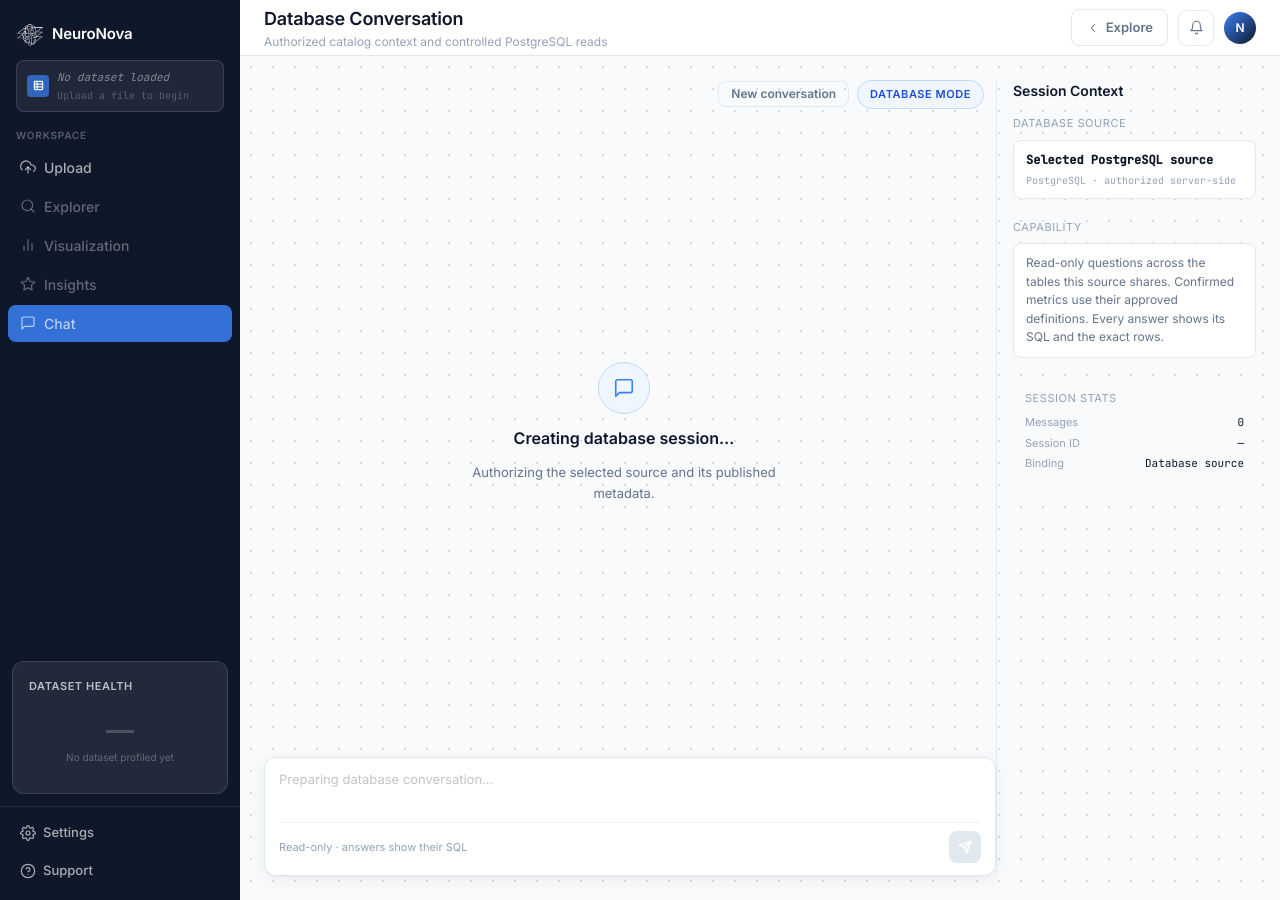
Test case: switches an eligible returned result between its exact table and a local chart without another request
Type "Show revenue by region" into the text box named "Database question" at [630, 790], box x1=279 y1=770 x2=981 y2=809
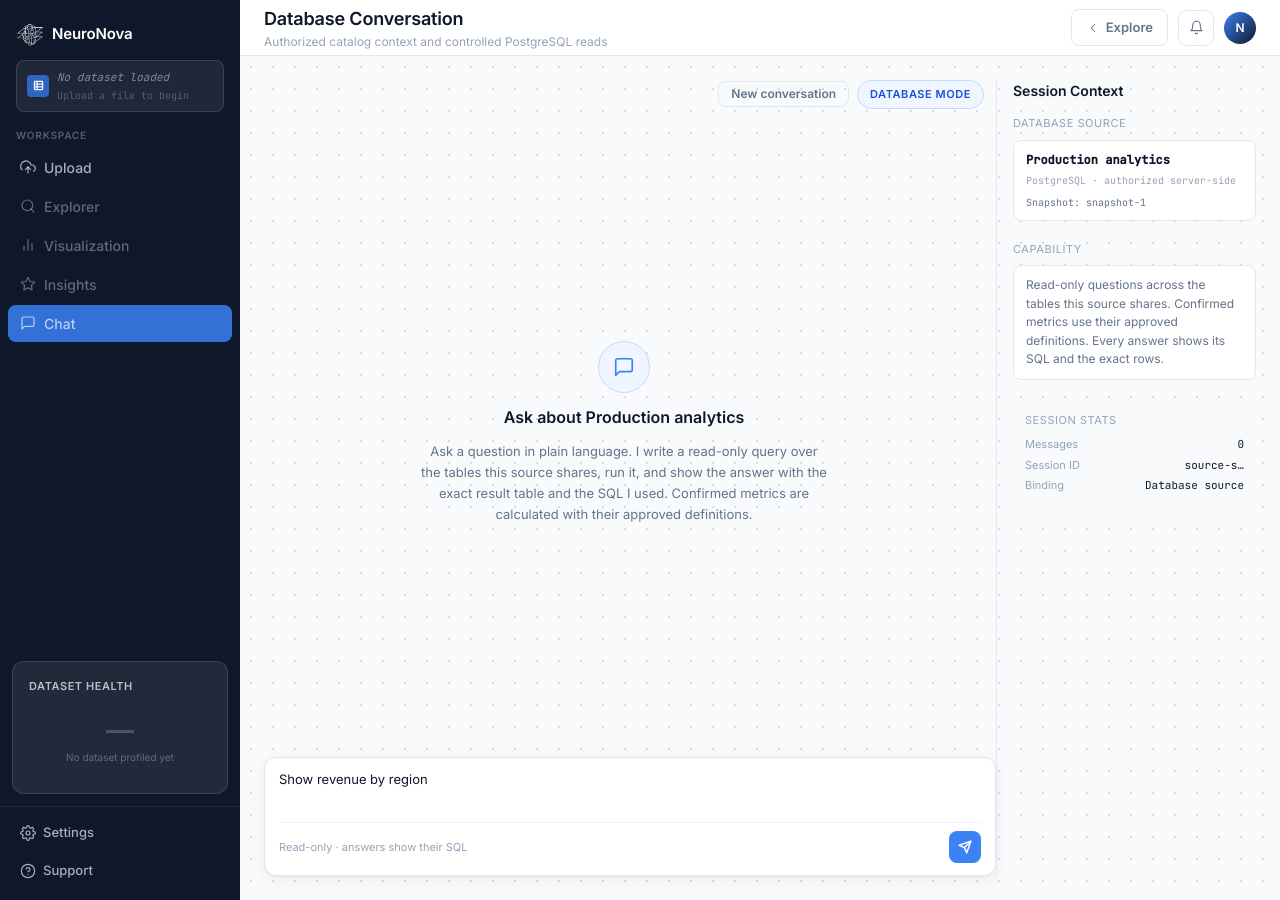
Click the button named "Send database question" at [965, 847], box x1=949 y1=831 x2=981 y2=863
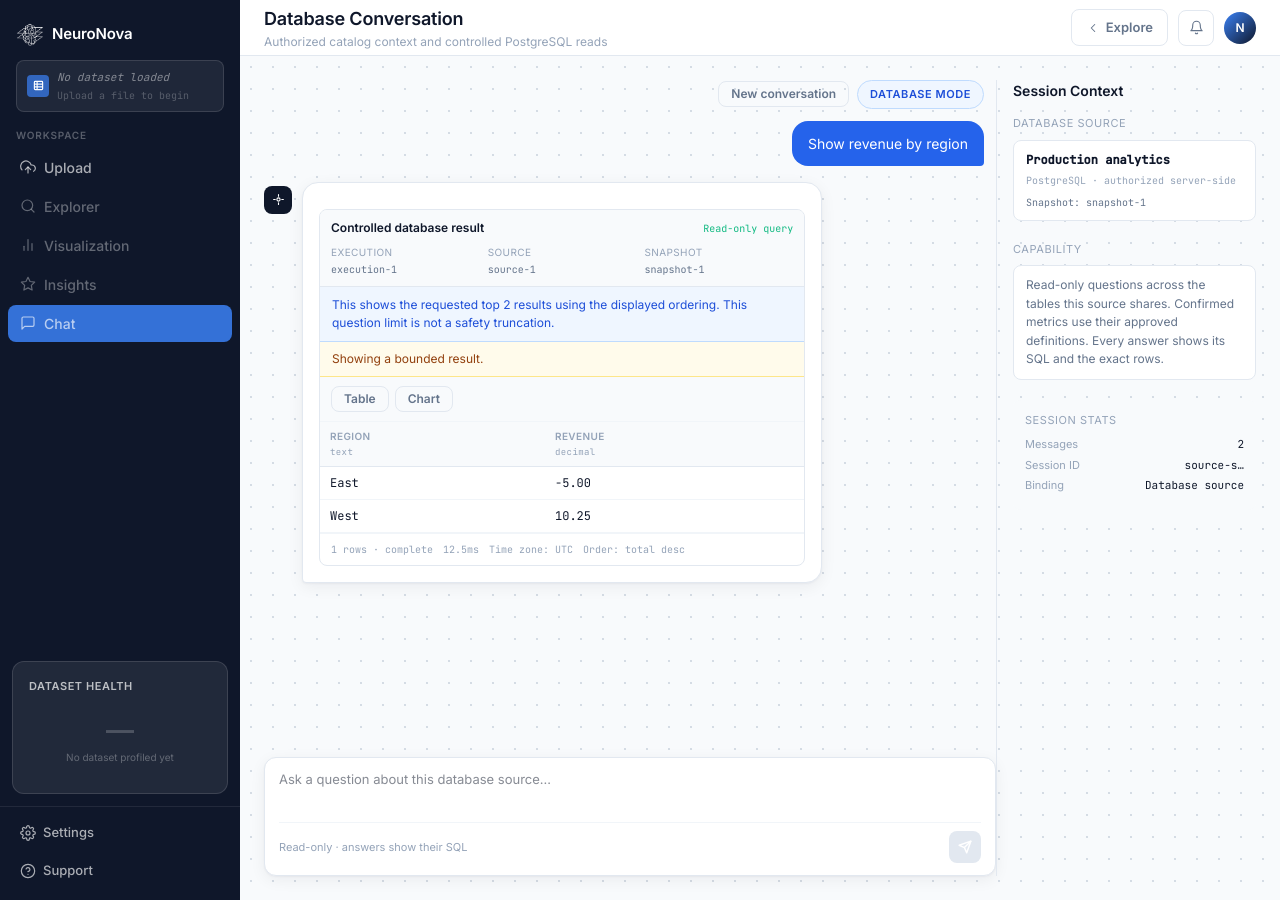
Check: the text "-5.00" is shown, box x1=545 y1=466 x2=804 y2=500
Click the tab "Chart" at [424, 398], box x1=395 y1=386 x2=453 y2=412
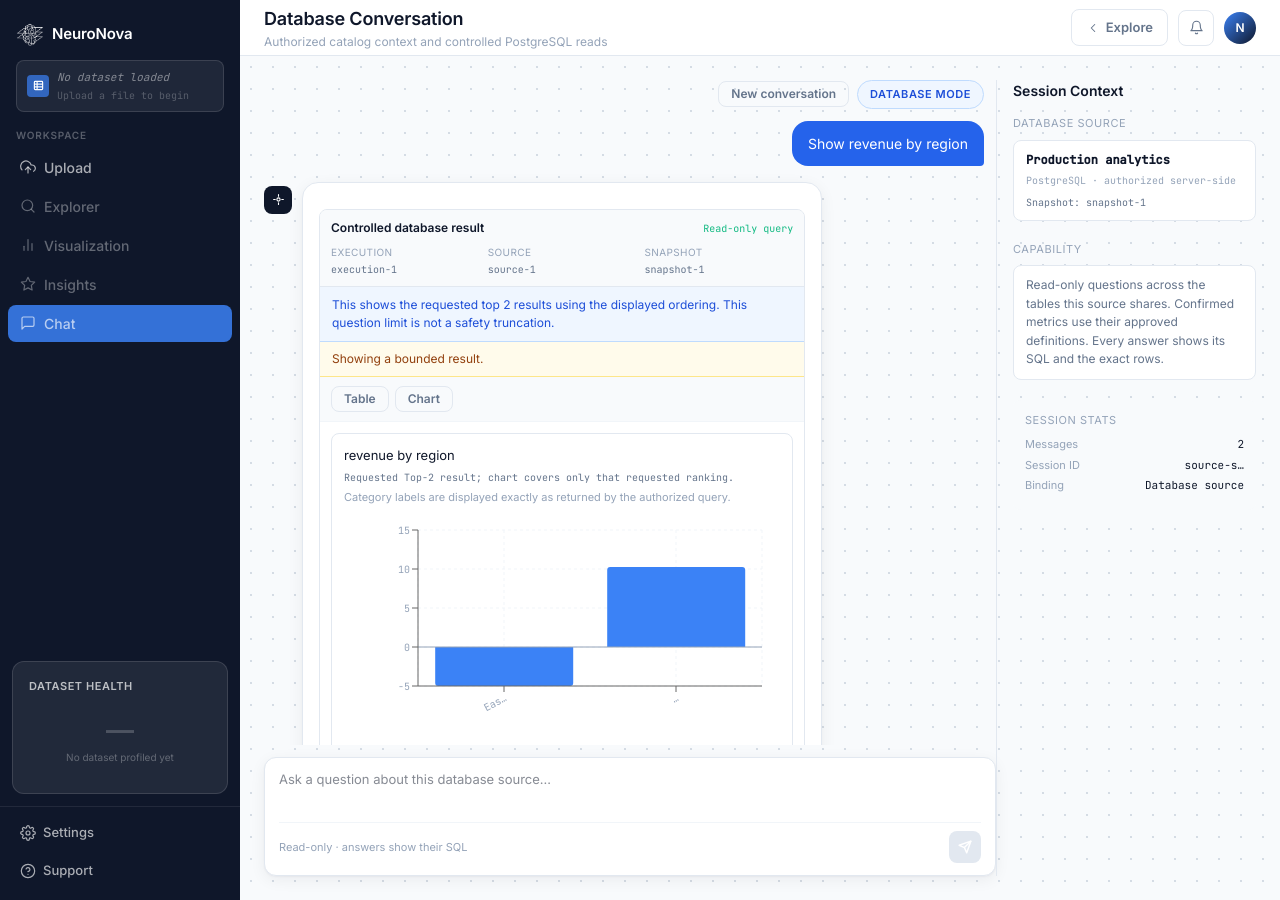
Check: the panel named "Database result chart" is shown, box x1=320 y1=422 x2=804 y2=745
Check: the text "Requested Top-2 result" is shown, box x1=344 y1=471 x2=734 y2=484
Click the tab "Table" at [360, 398], box x1=331 y1=386 x2=389 y2=412
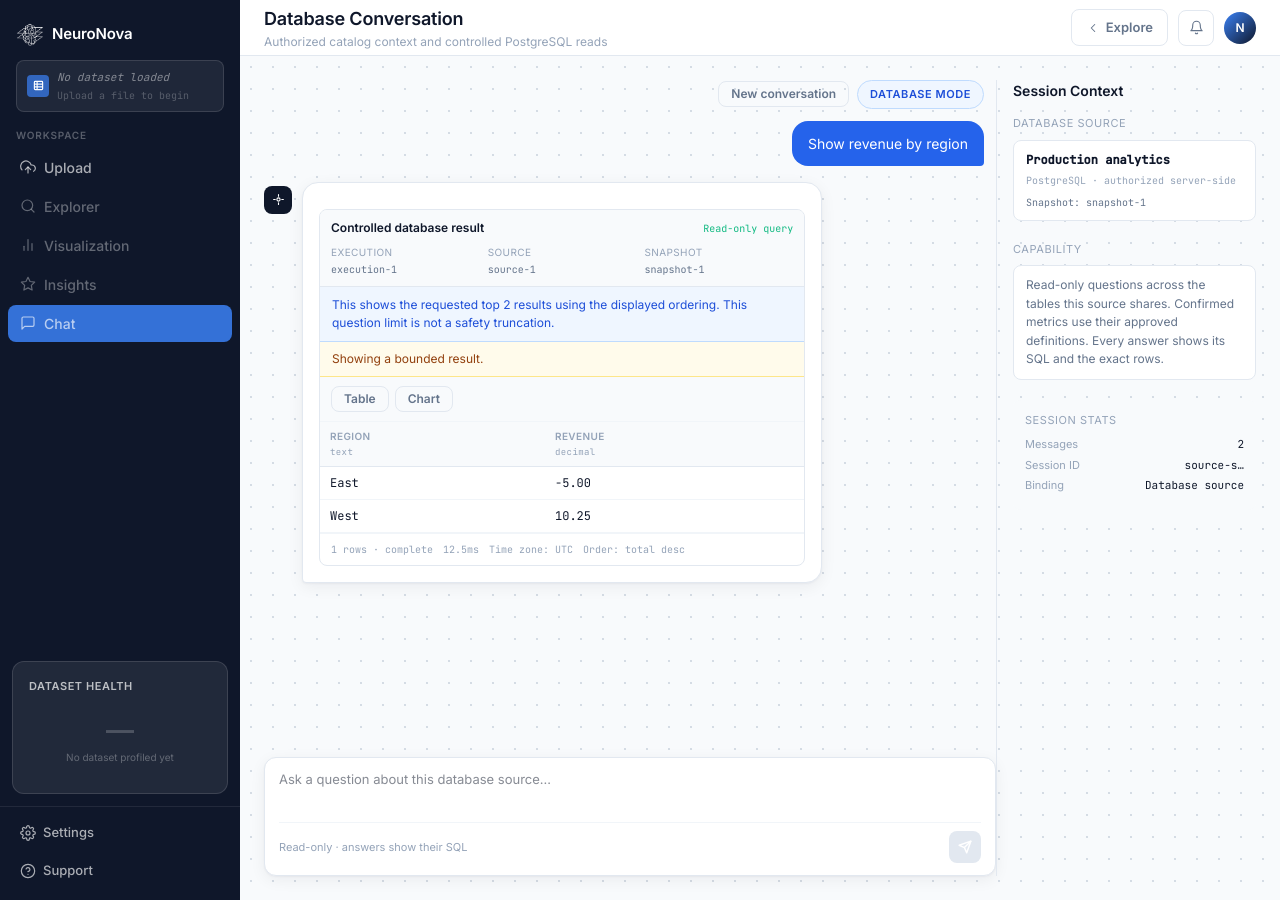
Check: the text "-5.00" is shown, box x1=545 y1=466 x2=804 y2=500
